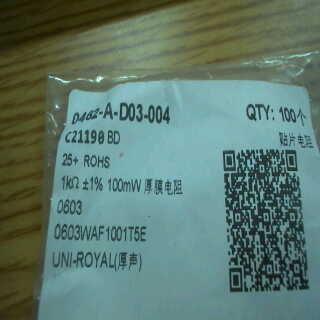1kR: (55, 173, 80, 193)
